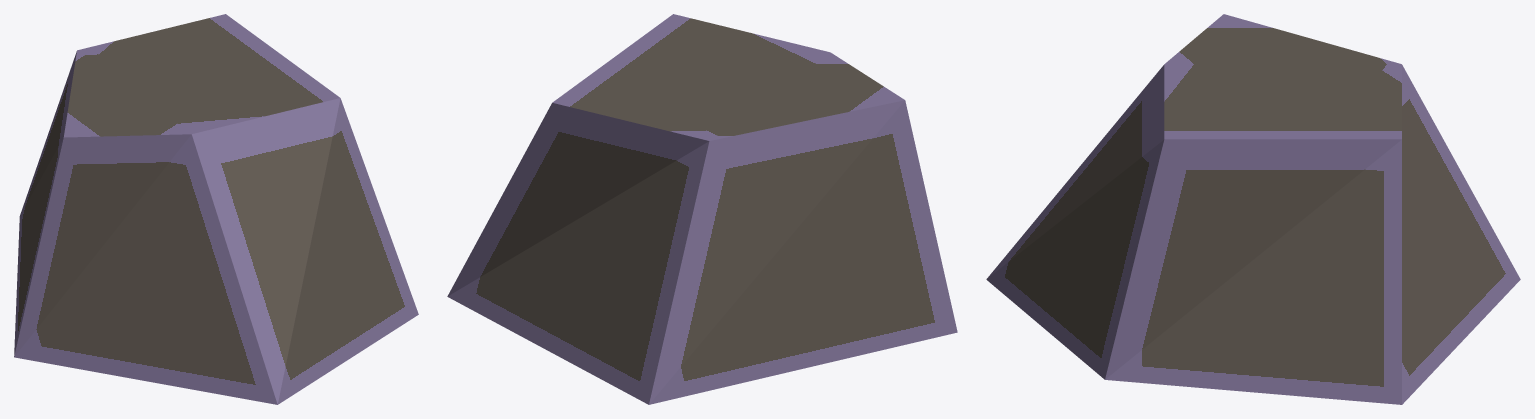
File: rock.gltf
3 views of the same model, side by side, from view 1: azimuth 30°, elevation 25°; view 2: azimuth 150°, elevation 25°; view 3: azimuth 270°, elevation 25° (orthographic). The views are drawn at different scales.
Size of the model in its own units: 2 by 1 by 2.25.
Materials: 1 (1 with a texture image).
